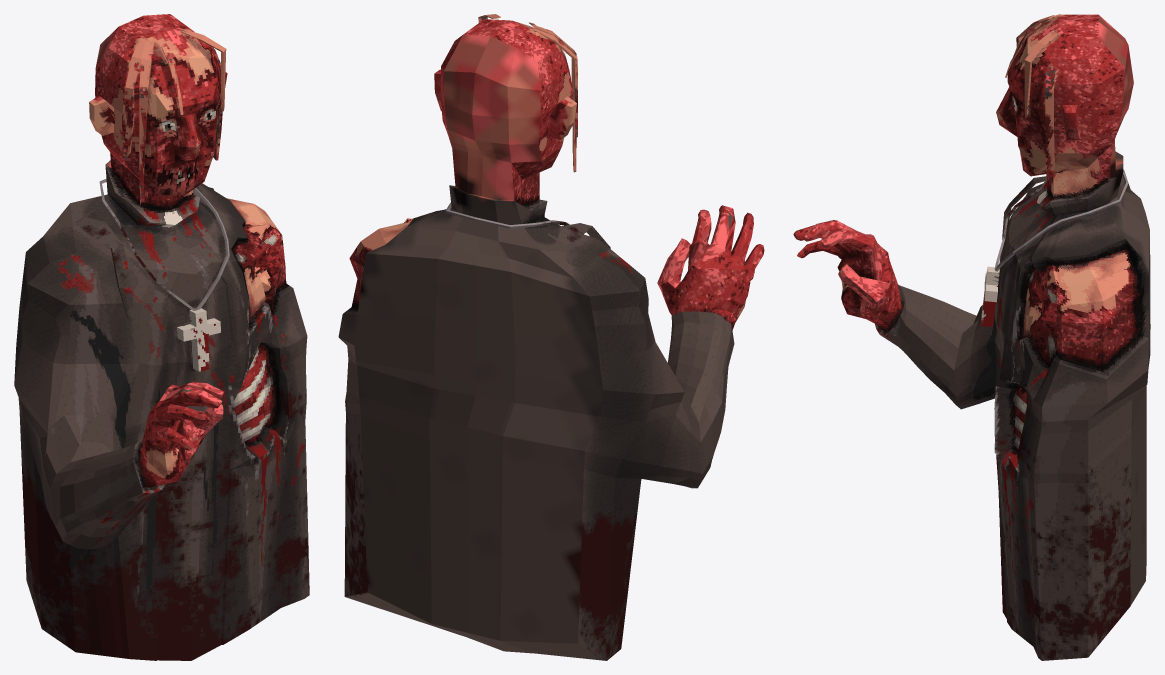
File: HH_MAIN_CHARACTER.fbx
The picture shows the model from 3 angles, left to right: view 1: azimuth 30°, elevation 25°; view 2: azimuth 150°, elevation 25°; view 3: azimuth 270°, elevation 25°; orthographic projection. The views are drawn at different scales.
Visible parts, largest first — view 1: MainCharacter; view 2: MainCharacter; view 3: MainCharacter.
Boxes of the visible parts, x1,y1,x2,y2 form: MainCharacter: [14, 14, 309, 660]; MainCharacter: [338, 14, 764, 660]; MainCharacter: [793, 14, 1150, 660].
Size of the model in its own units: 4.06 by 7.97 by 4.35.
Materials: 1 (1 with a texture image).
